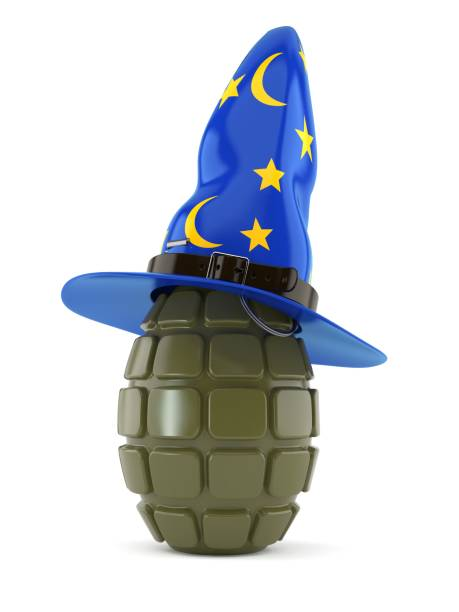e1: (109, 254, 325, 568)
